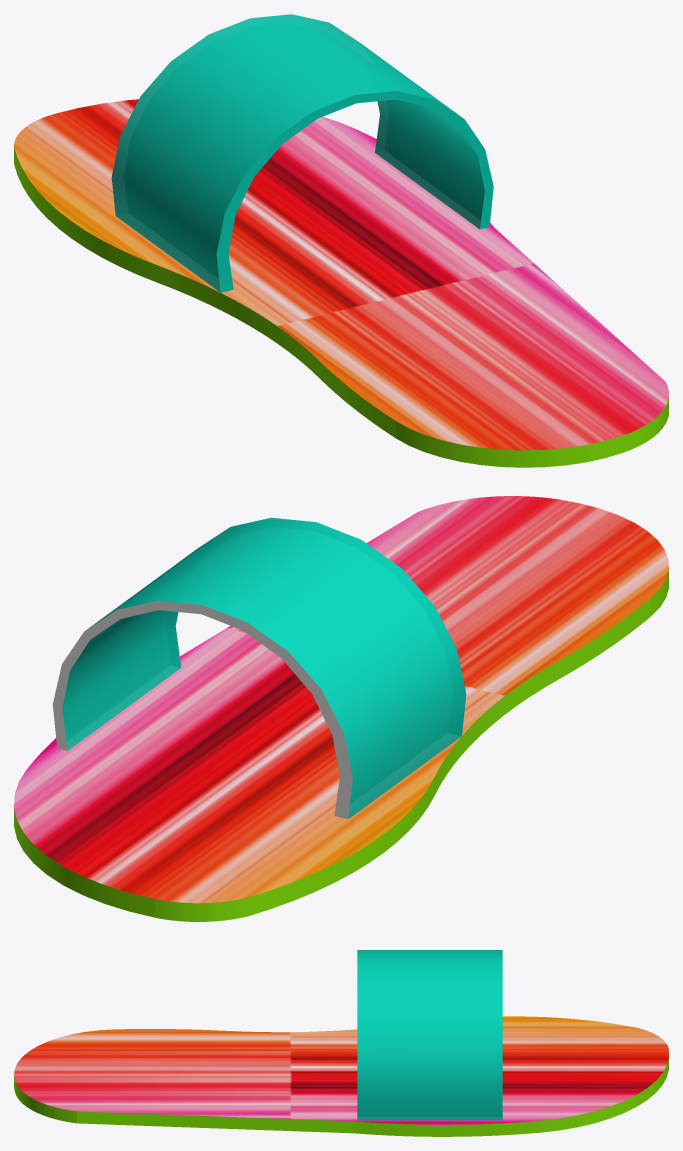
Rendered from chala.fbx.
3 views of the same model, one above another, from view 1: azimuth 30°, elevation 25°; view 2: azimuth 150°, elevation 25°; view 3: azimuth 270°, elevation 25° (orthographic). The views are drawn at different scales.
Visible parts, largest first — view 1: ID3, ID46, ID16, ID32, ID40; view 2: ID3, ID46, ID16, ID32, ID24; view 3: ID3, ID46, ID16.
Boxes of the visible parts, x1=… form: ID3: x1=14, y1=99, x2=668, y2=450; ID46: x1=111, y1=14, x2=462, y2=292; ID16: x1=14, y1=147, x2=668, y2=467; ID32: x1=375, y1=99, x2=484, y2=229; ID40: x1=216, y1=91, x2=493, y2=292; ID3: x1=14, y1=496, x2=668, y2=903; ID46: x1=87, y1=517, x2=466, y2=818; ID16: x1=14, y1=570, x2=668, y2=921; ID32: x1=62, y1=610, x2=181, y2=750; ID24: x1=52, y1=601, x2=352, y2=819; ID3: x1=14, y1=1016, x2=668, y2=1124; ID46: x1=357, y1=950, x2=502, y2=1120; ID16: x1=14, y1=1058, x2=668, y2=1136.
Size of the model in its own units: 19.34 by 10.5 by 49.34.
Materials: 4 (1 with a texture image).
